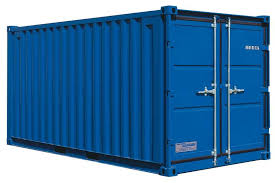container_door: (167, 4, 273, 174)
